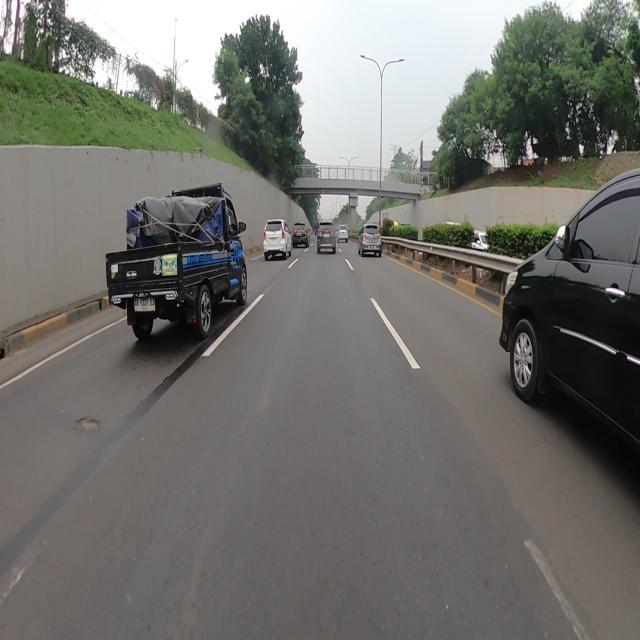Buraco: (73, 415, 103, 435)
